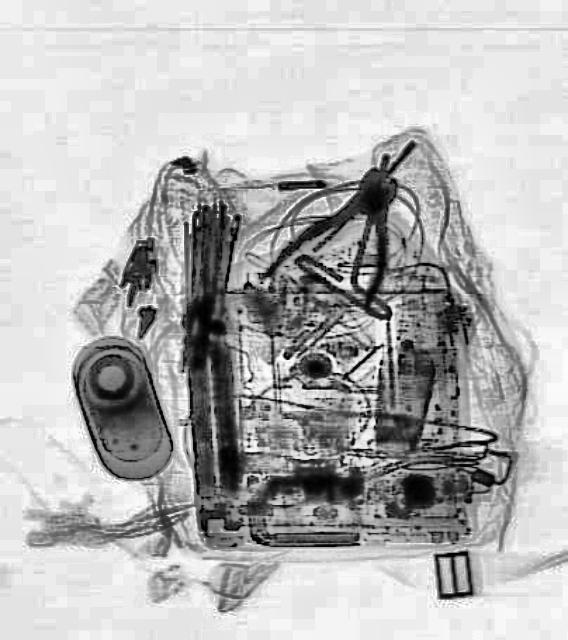Pliers: (261, 140, 427, 324)
